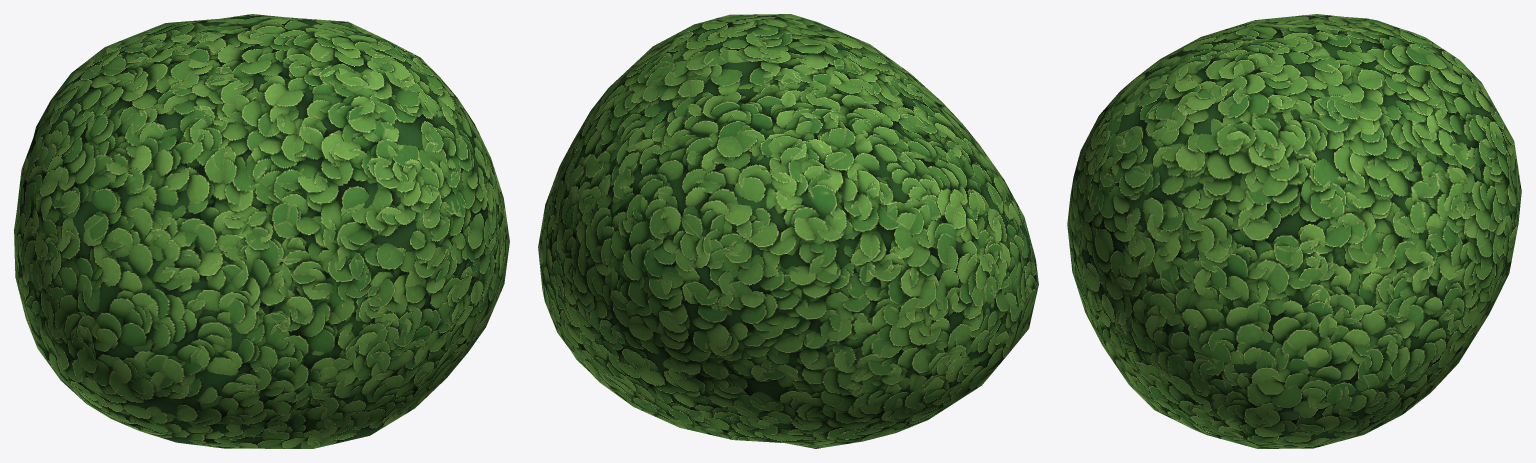
File: Bush_Round_01.fbx
The picture shows the model from 3 angles, left to right: view 1: azimuth 30°, elevation 25°; view 2: azimuth 150°, elevation 25°; view 3: azimuth 270°, elevation 25°; orthographic projection. The views are drawn at different scales.
Parts seen in each view (by area): view 1: Bush_Round_01; view 2: Bush_Round_01; view 3: Bush_Round_01.
Boxes of the visible parts, box(x1,y1,x2,y2) form: Bush_Round_01: box(14, 14, 509, 448); Bush_Round_01: box(538, 14, 1038, 448); Bush_Round_01: box(1067, 14, 1521, 448).
Size of the model in its own units: 1.08 by 0.826 by 0.9702.
1 material, 1 textured.
